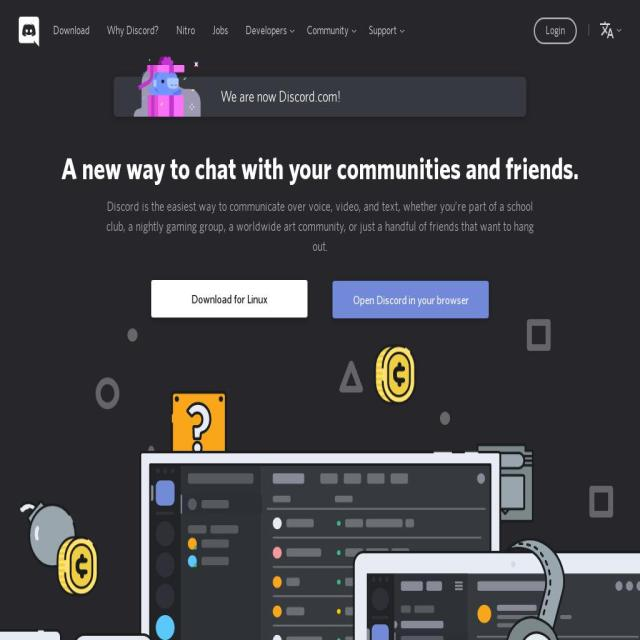button: (332, 281, 488, 318), (534, 18, 577, 44), (19, 16, 39, 46)
heading: (61, 150, 579, 187)
image: (139, 451, 501, 640), (317, 551, 640, 640), (0, 569, 640, 601), (0, 394, 640, 426), (499, 537, 587, 640), (0, 629, 640, 640), (476, 442, 534, 522), (171, 391, 227, 466), (19, 503, 77, 572), (370, 340, 420, 408), (52, 532, 102, 599), (134, 76, 200, 116), (120, 319, 144, 351), (527, 319, 551, 351), (339, 361, 363, 392), (139, 446, 163, 477), (433, 403, 457, 434), (96, 378, 120, 409), (589, 486, 613, 517), (383, 453, 407, 484), (69, 633, 158, 640), (19, 16, 39, 46), (600, 22, 614, 38), (290, 29, 294, 33), (352, 29, 356, 33), (400, 29, 404, 33), (617, 28, 621, 32)
text: (98, 196, 542, 256), (152, 280, 308, 318), (332, 281, 488, 318), (101, 11, 165, 49), (220, 88, 340, 105), (46, 11, 96, 49), (170, 11, 201, 49), (207, 11, 234, 49), (307, 23, 349, 37), (246, 23, 286, 37), (369, 23, 397, 37)
